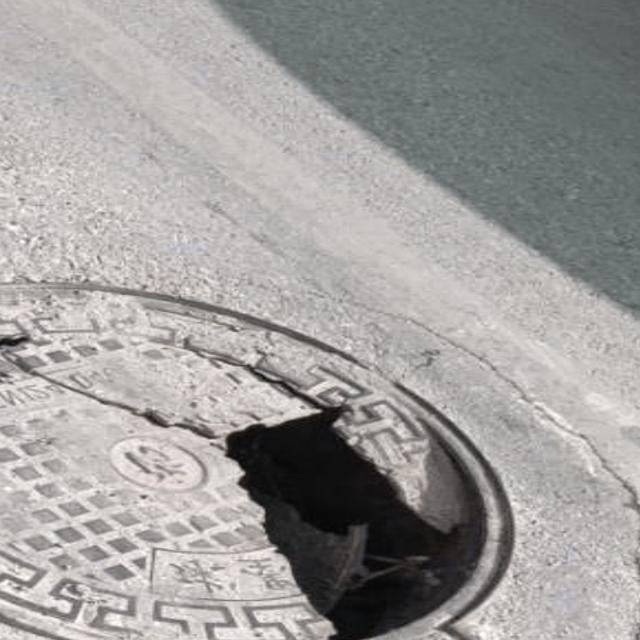broke: (0, 254, 640, 640)
